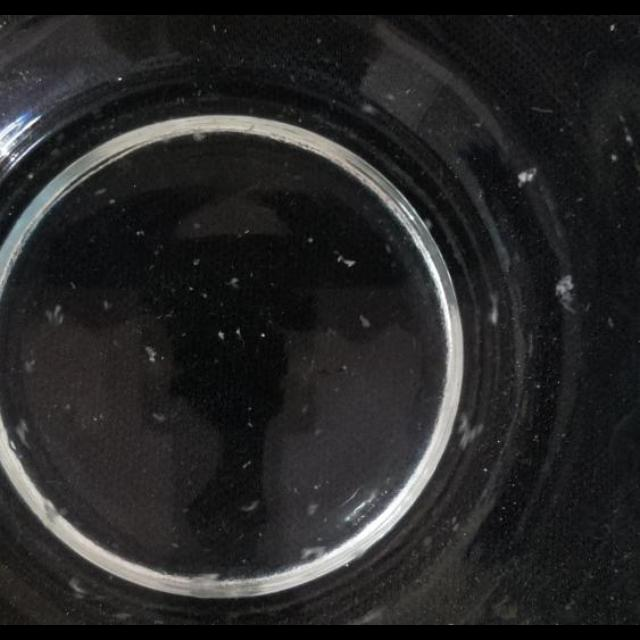Fibre: (556, 279, 578, 313), (622, 125, 634, 146)
microbeads: (456, 414, 484, 448), (42, 499, 64, 525), (15, 418, 31, 446), (300, 545, 328, 561), (70, 577, 94, 595), (518, 168, 536, 185), (144, 346, 158, 362), (24, 357, 36, 373), (306, 502, 318, 516), (359, 314, 371, 328), (151, 412, 167, 422), (300, 402, 310, 414), (227, 278, 239, 288), (242, 460, 252, 470), (338, 364, 348, 374), (102, 300, 111, 310), (607, 317, 615, 328), (217, 330, 225, 340), (314, 428, 322, 438), (312, 482, 320, 492), (610, 152, 618, 162), (65, 402, 73, 412), (472, 120, 482, 128), (386, 93, 396, 101), (136, 230, 146, 237), (235, 328, 242, 338), (246, 421, 254, 429), (306, 236, 314, 244), (192, 258, 200, 266), (194, 222, 202, 230), (92, 414, 100, 422), (202, 291, 208, 299), (316, 36, 322, 44), (259, 332, 265, 338), (483, 467, 489, 473), (117, 76, 123, 82)
